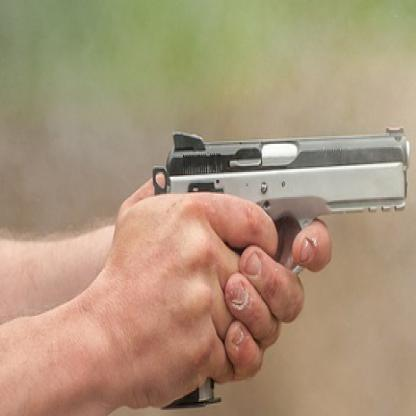gun: (151, 120, 415, 410)
